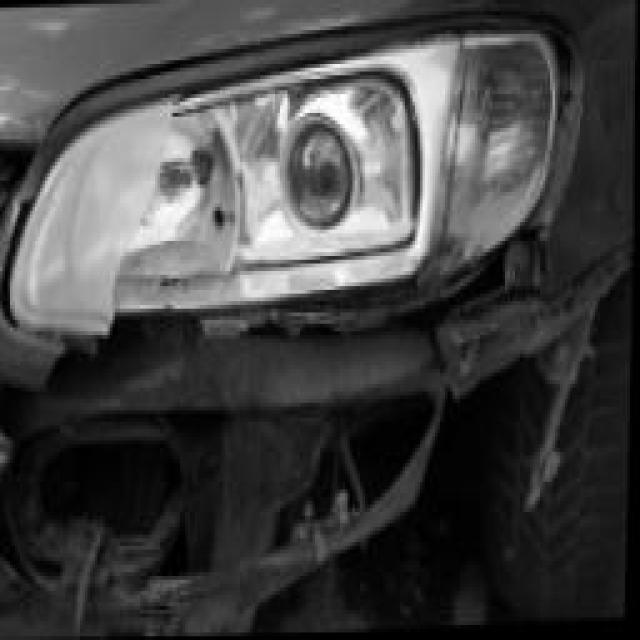Bumper: (0, 301, 571, 639)
Light: (0, 23, 579, 338)
